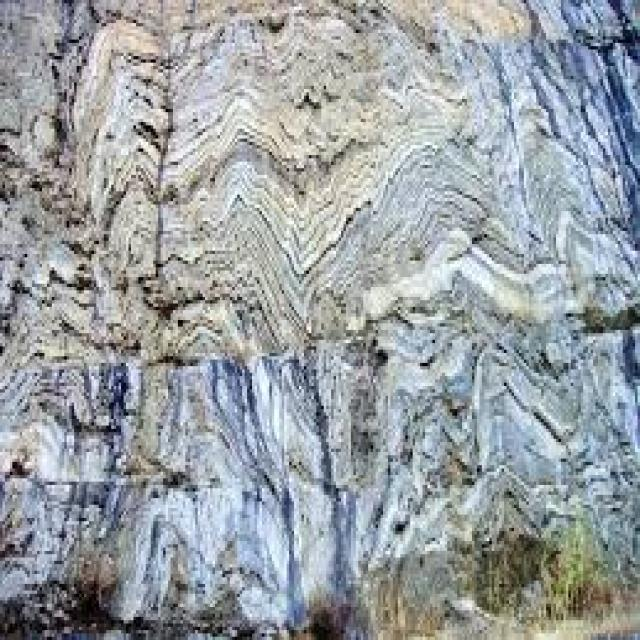Metamorphic: (2, 4, 632, 634)
